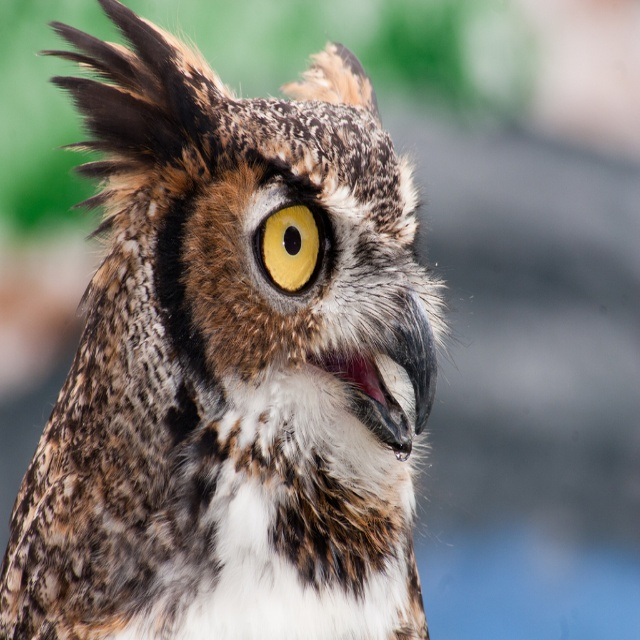Owl: (0, 0, 462, 639)
